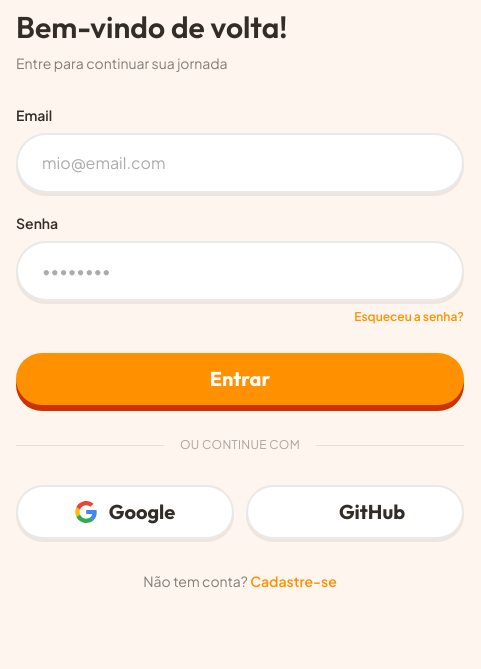
LoginForm › should display global error banner from action message
Type "user@example.com" into the field labelled "Email".
click(240, 163); type("user@example.com")  # box [42,151,438,175]
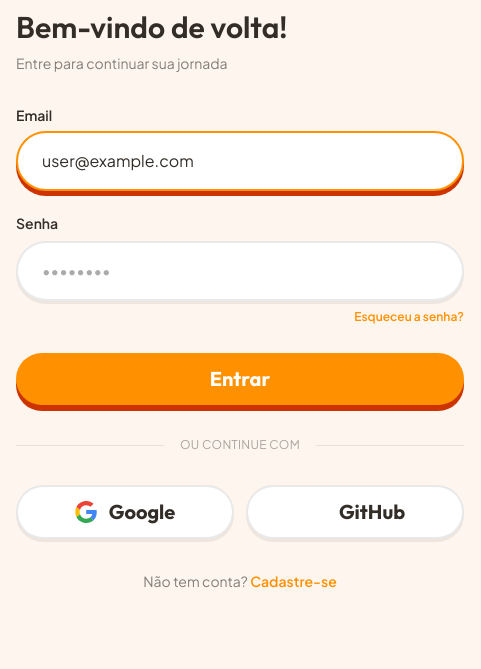
Type "wrong" into the password field labelled "Senha".
click(224, 271); type("wrong")  # box [42,259,406,283]
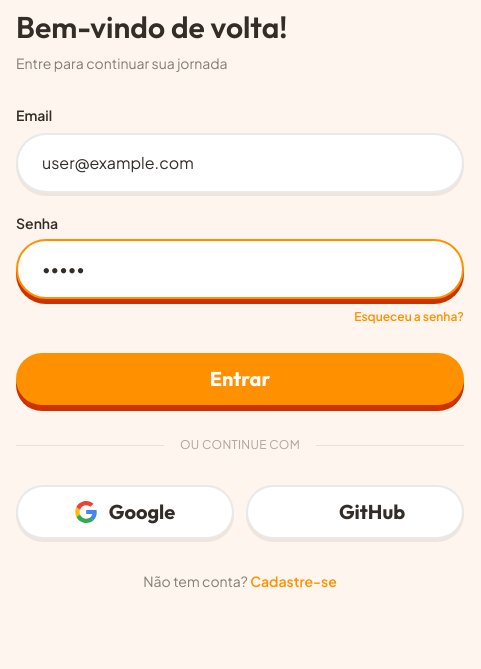
Click the button "Entrar".
click(240, 379)  # box [16,353,464,405]
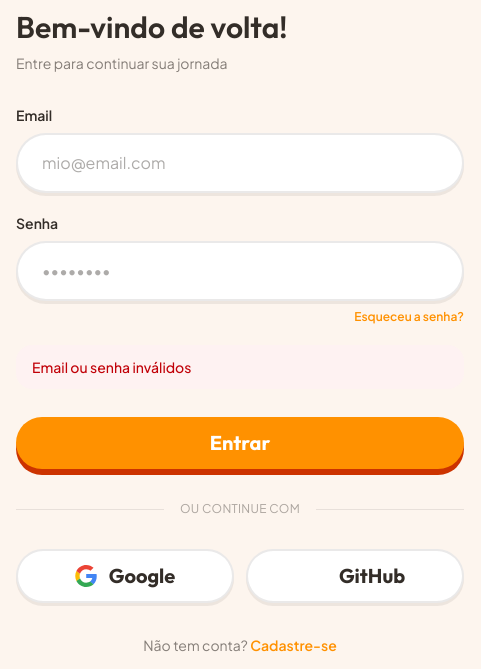
Expected: the text "Email ou senha inválidos" is shown, [16,345,464,389]
